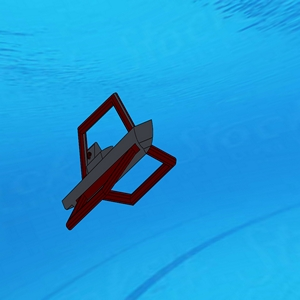submarine: (50, 113, 185, 224), (50, 112, 57, 116)
